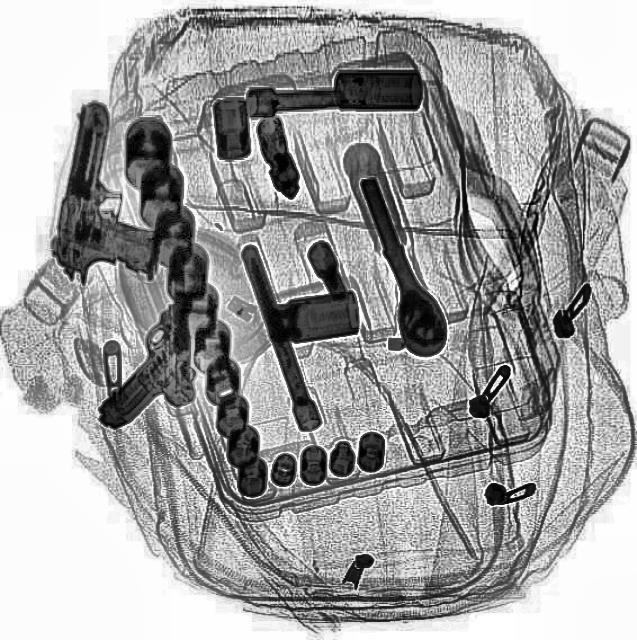Gun: (44, 96, 180, 296), (90, 251, 198, 427)
